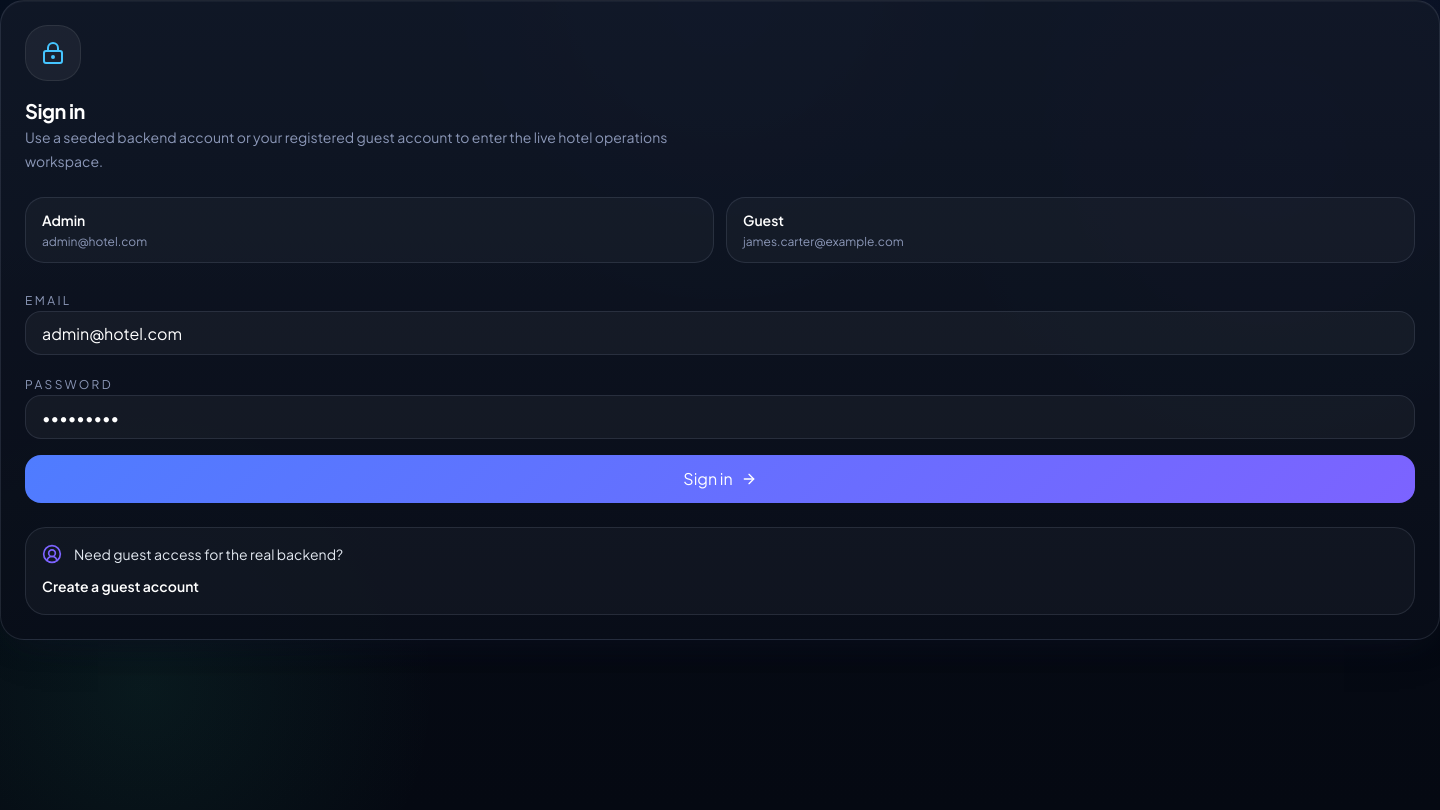
Test: frontend components › login form validates required fields
The image size is (1440, 810).
Clear the field showing "admin@hotel.com" at (720, 333), box [25,311,1415,355]
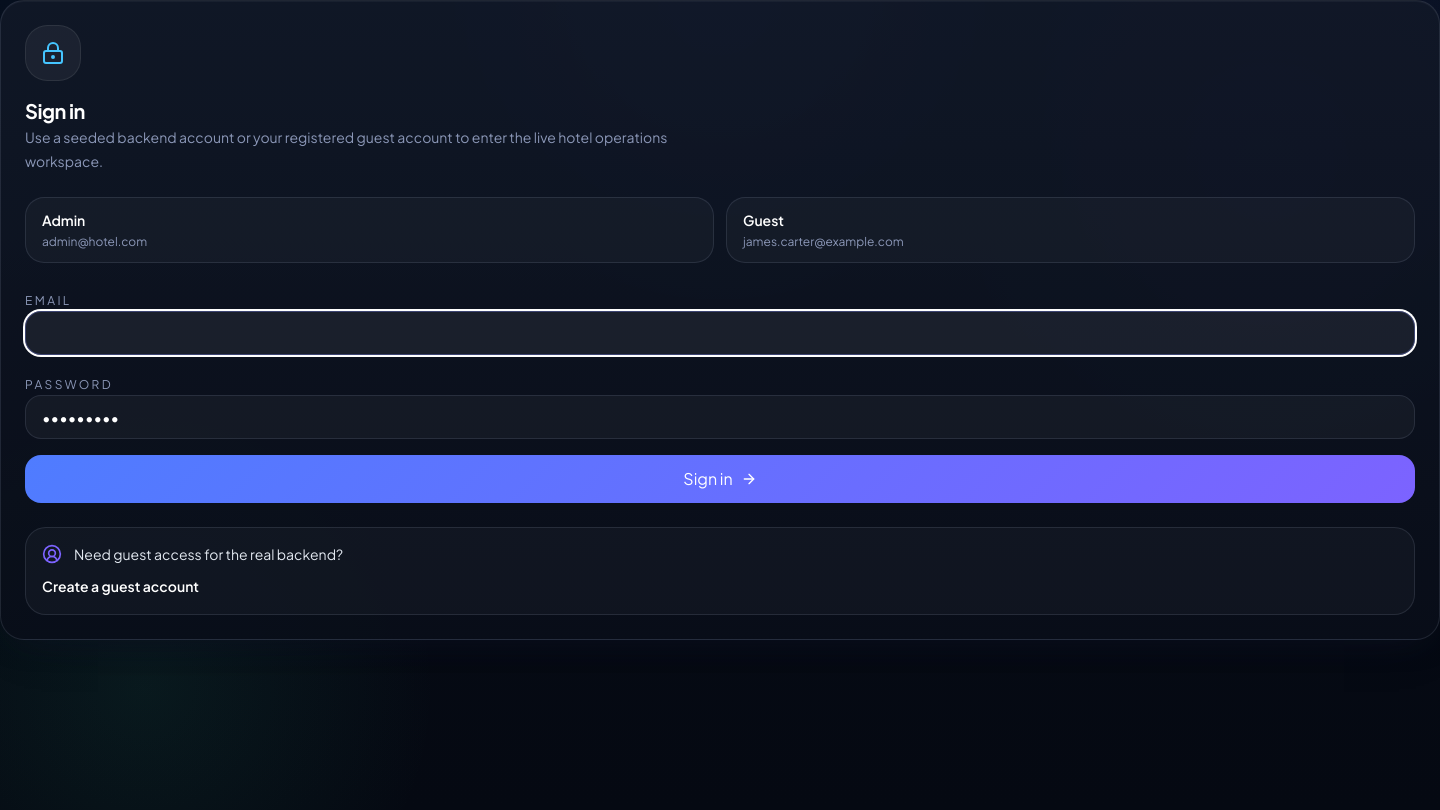
Clear the password field showing "Admin123!" at (720, 417), box [25,395,1415,439]
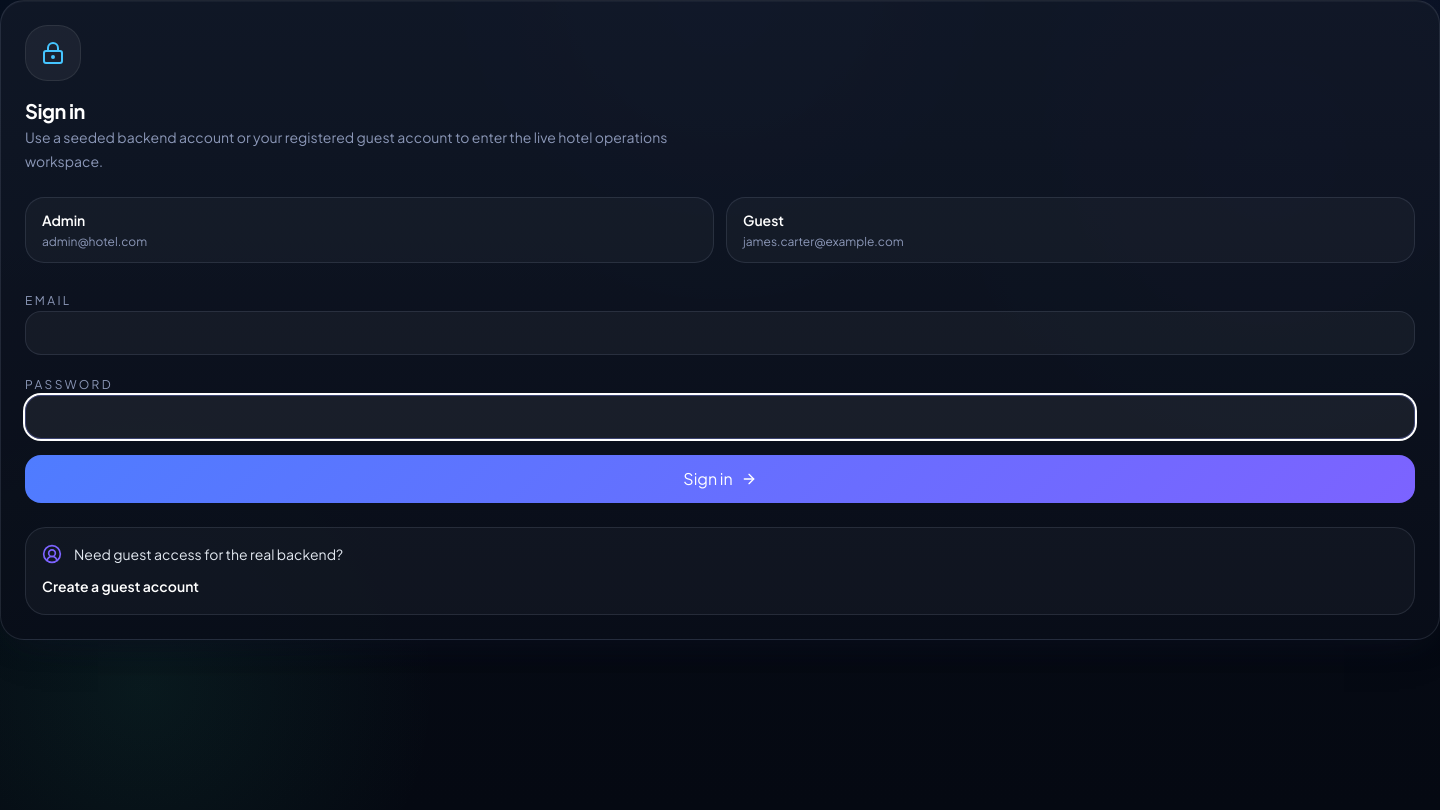
Click the button "Sign in" at (720, 479), box [25,455,1415,503]
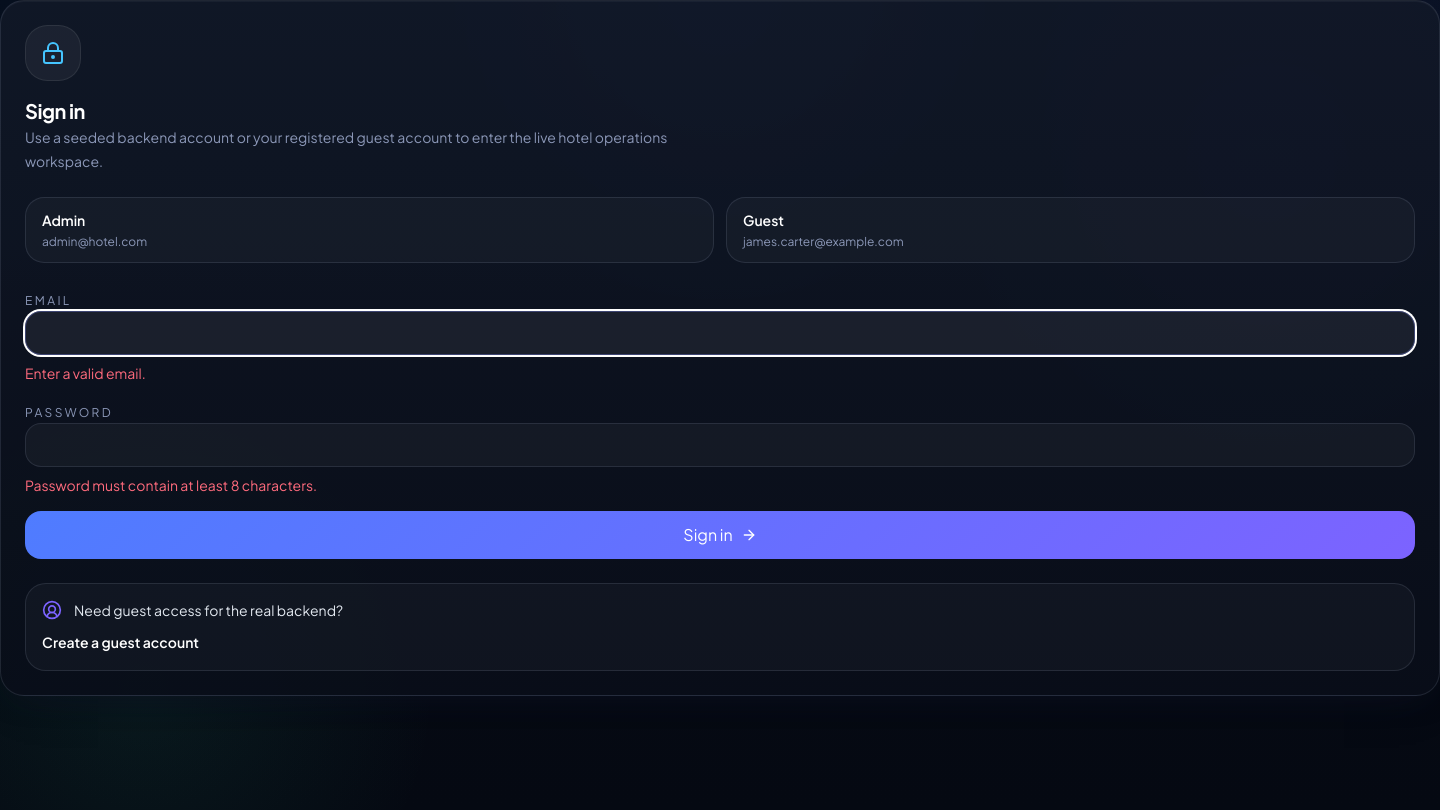
Check: the text "Enter a valid email." is shown, box [25,364,146,382]
Check: the text "Password must contain at least 8 characters." is shown, box [25,476,317,494]
